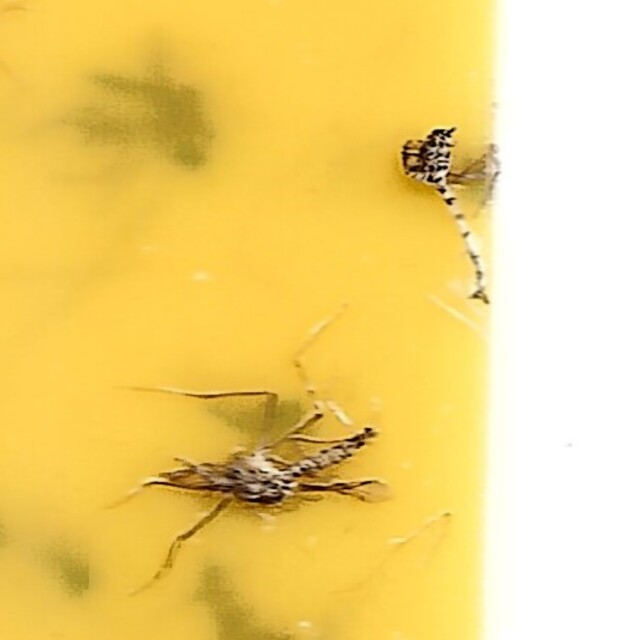Nematocera: (146, 423, 402, 520), (397, 120, 494, 301)
